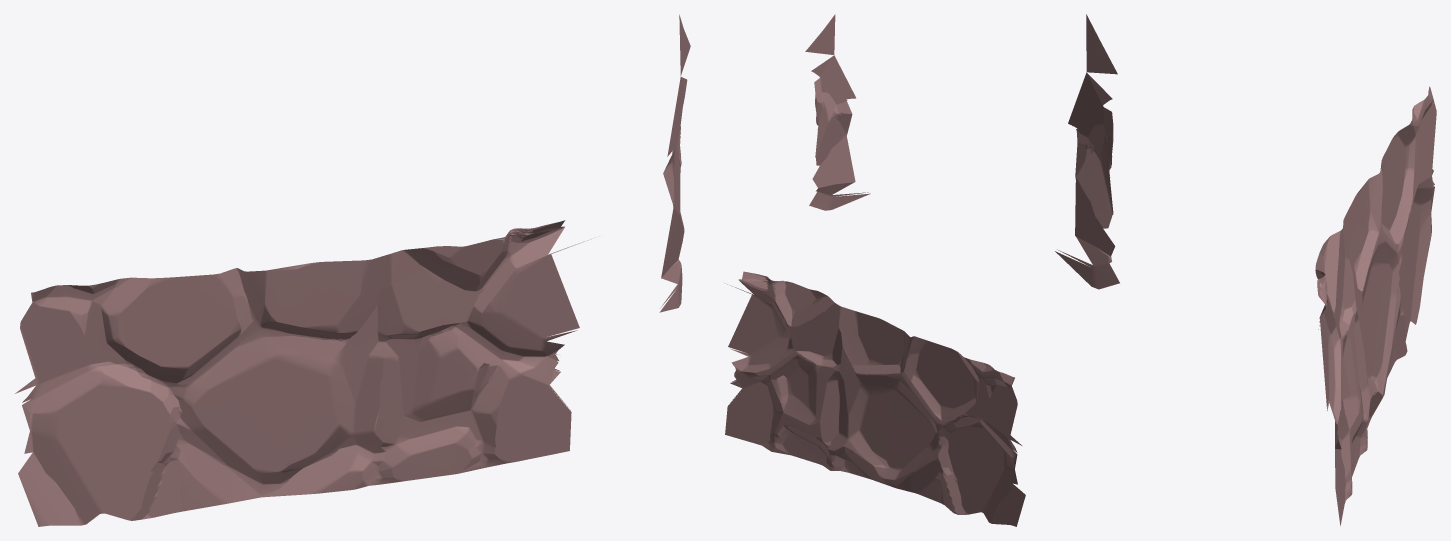
Rendered from cliff_area_2.fbx_Cliff_Area_2_019LODs.fbx.
3 renders of one model, left to right at view 1: azimuth 30°, elevation 25°; view 2: azimuth 150°, elevation 25°; view 3: azimuth 270°, elevation 25°, orthographic. The views are drawn at different scales.
Parts seen in each view (by area): view 1: Cliff Area 2.019_LOD0; view 2: Cliff Area 2.019_LOD0; view 3: Cliff Area 2.019_LOD0.
Boxes of the visible parts, x1,y1,x2,y2 form: Cliff Area 2.019_LOD0: (15,14,690,526); Cliff Area 2.019_LOD0: (725,14,1025,526); Cliff Area 2.019_LOD0: (1055,14,1436,526).
Size of what is drawn, in the model's own units: 3968 by 3951 by 2726.
